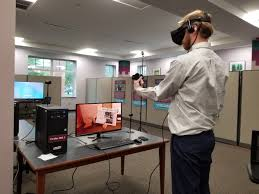oculus: (169, 19, 194, 47)
